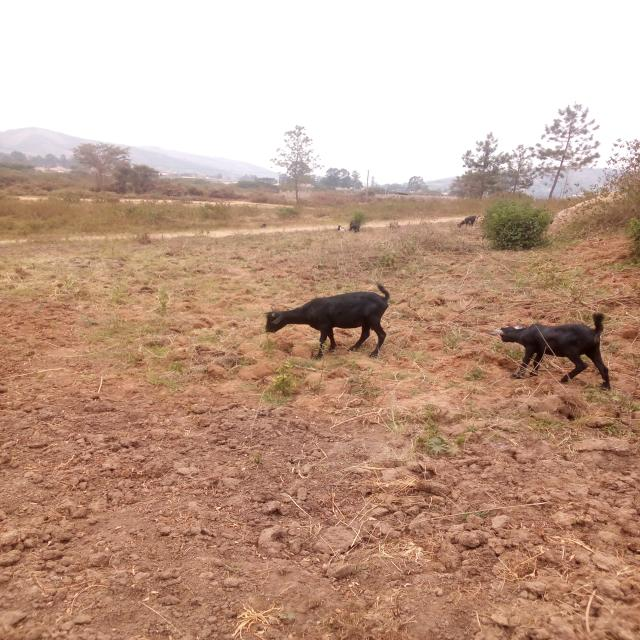goat: (241, 269, 427, 378)
